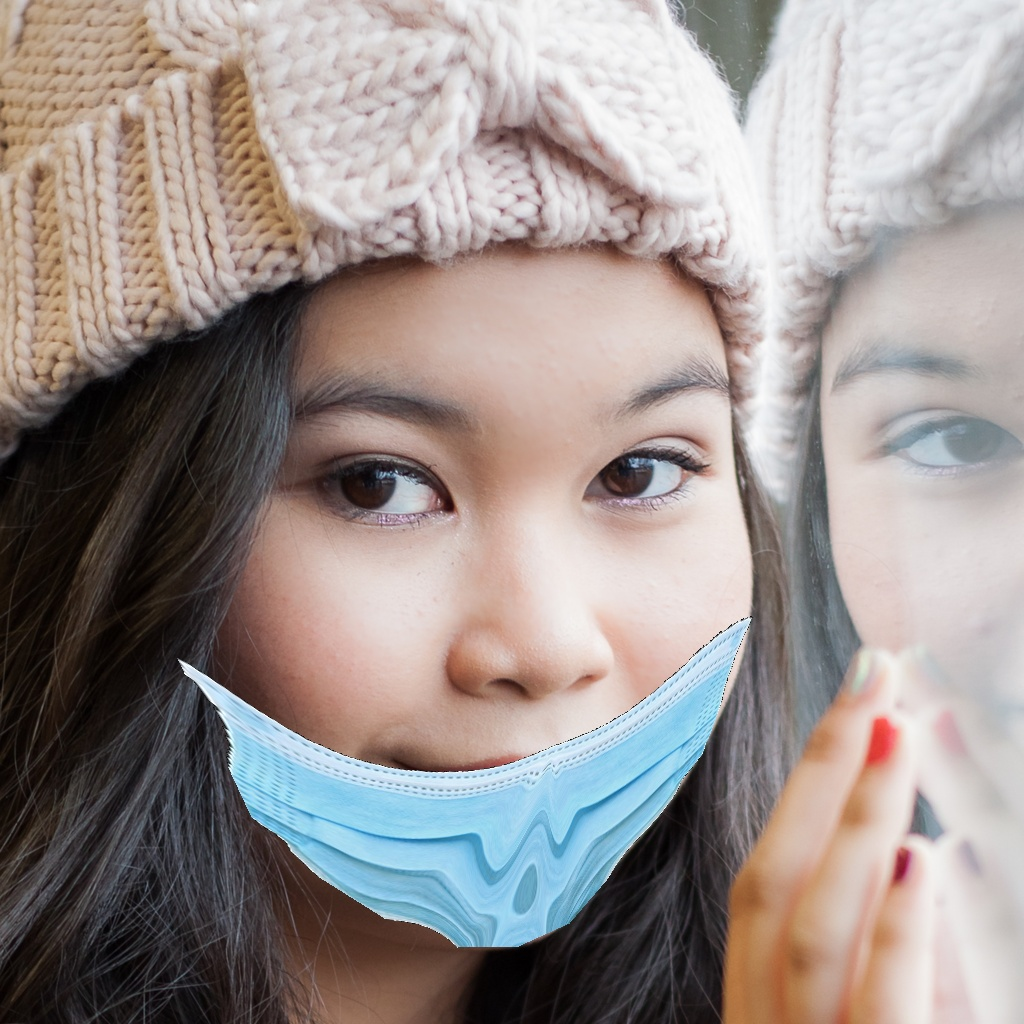mask_weared_incorrect: (152, 361, 777, 968)
